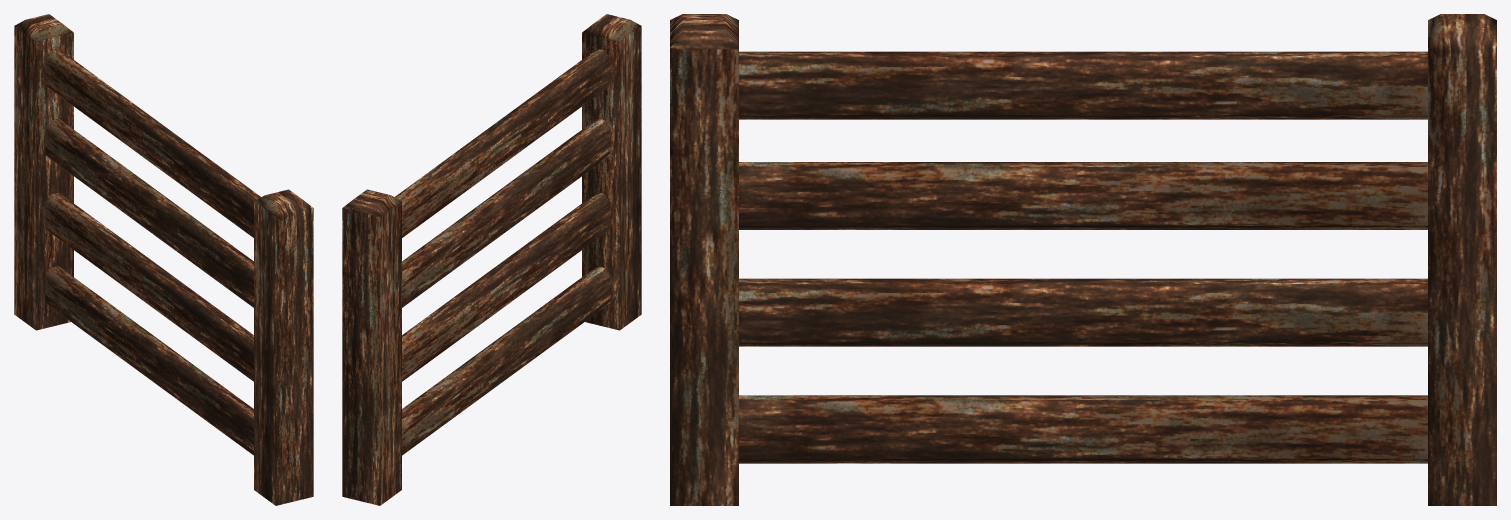
Rendered from Fence_01.fbx.
3 views of the same model, side by side, from view 1: azimuth 30°, elevation 25°; view 2: azimuth 150°, elevation 25°; view 3: azimuth 270°, elevation 25° (orthographic). The views are drawn at different scales.
Visible parts, largest first — view 1: Fence_1; view 2: Fence_1; view 3: Fence_1.
Part boxes in pixels (left/top/right/bottom): Fence_1: left=14, top=14, right=313, bottom=505; Fence_1: left=342, top=14, right=641, bottom=505; Fence_1: left=670, top=14, right=1496, bottom=505.
Size of the model in its own units: 2 by 15 by 24.01.
1 material, 1 textured.
